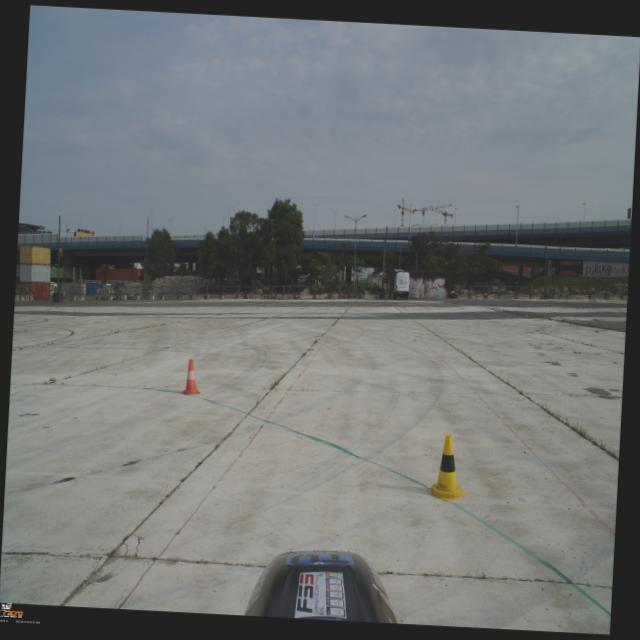orange_cone: (182, 358, 202, 396)
yellow_cone: (426, 433, 470, 502)
